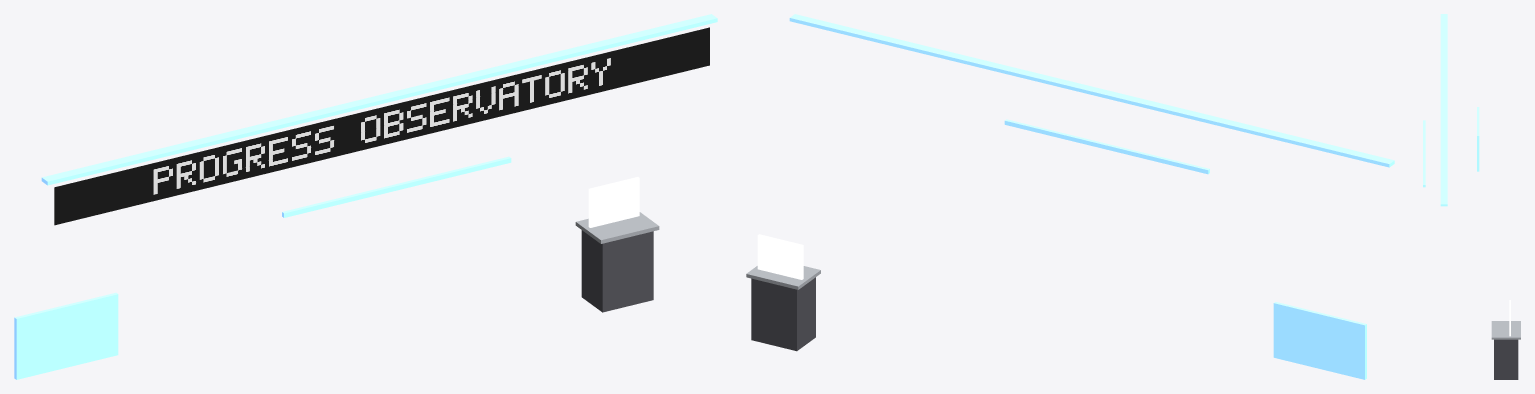
File: room-s11-molecular-5.glb
3 renders of one model, left to right at view 1: azimuth 30°, elevation 25°; view 2: azimuth 150°, elevation 25°; view 3: azimuth 270°, elevation 25°, orthographic. The views are drawn at different scales.
Visible parts, largest first — view 1: Molecular Progress Observatory room; view 2: Molecular Progress Observatory room; view 3: Molecular Progress Observatory room.
Boxes of the visible parts, bbox=[...] form: Molecular Progress Observatory room: bbox=[14, 14, 717, 379]; Molecular Progress Observatory room: bbox=[746, 14, 1394, 379]; Molecular Progress Observatory room: bbox=[1423, 14, 1520, 379].
Size of the model in its own units: 9.2 by 4.08 by 2.
5 materials, 1 textured.
